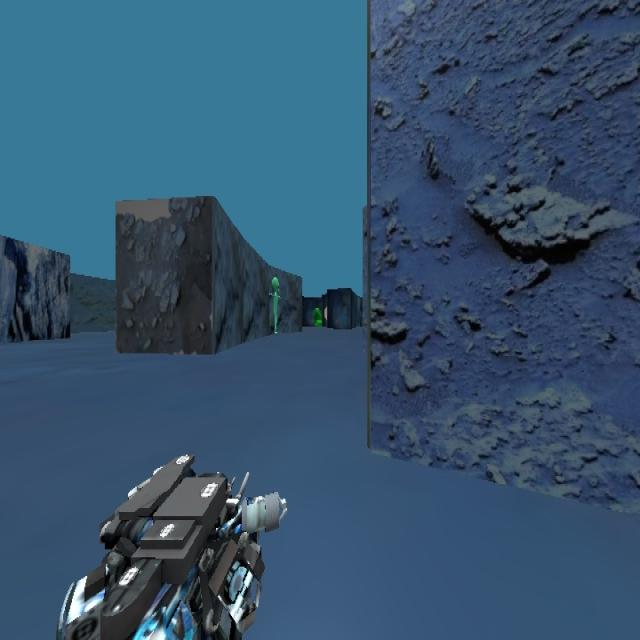Alien: (268, 275, 281, 333)
